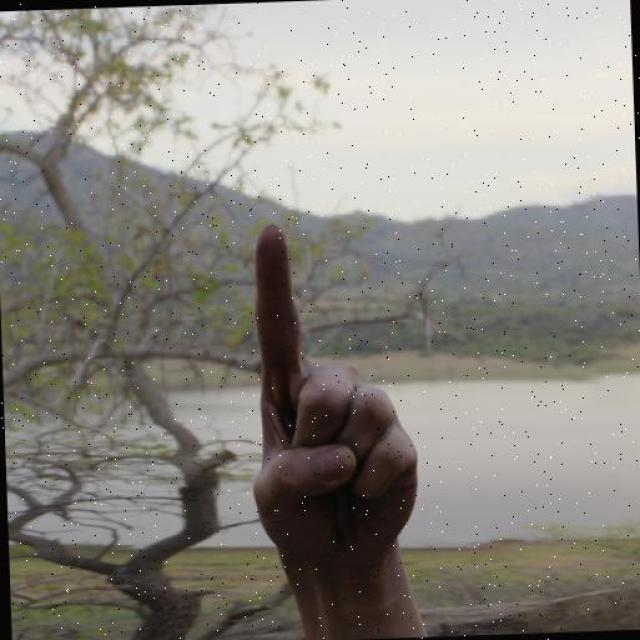Z: (238, 210, 424, 579)
